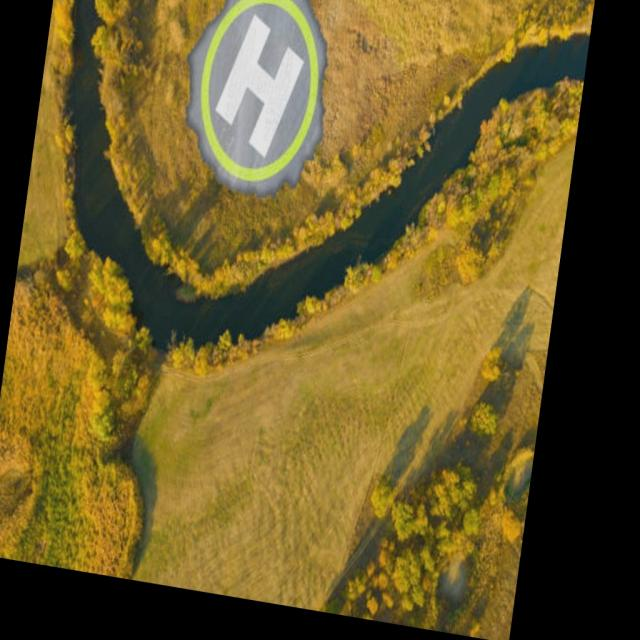helipad: (194, 0, 321, 182)
